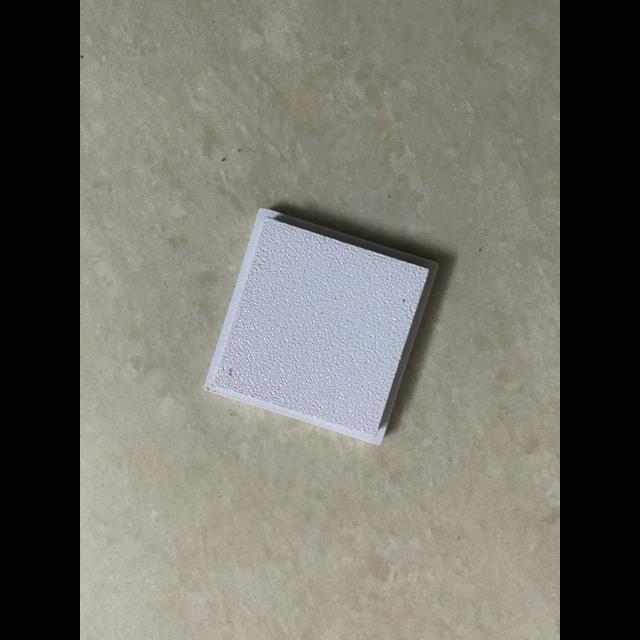RASPBERY PI CAM ENCLOSURE: (204, 208, 440, 446)
